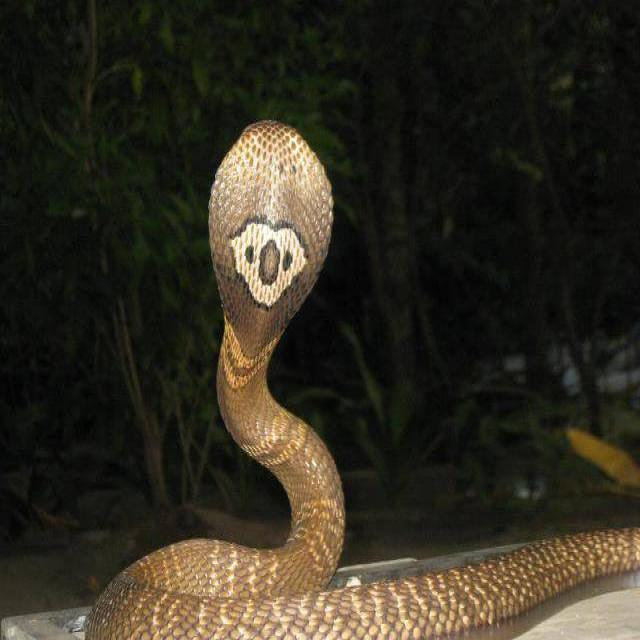Snake: (85, 110, 639, 640)
